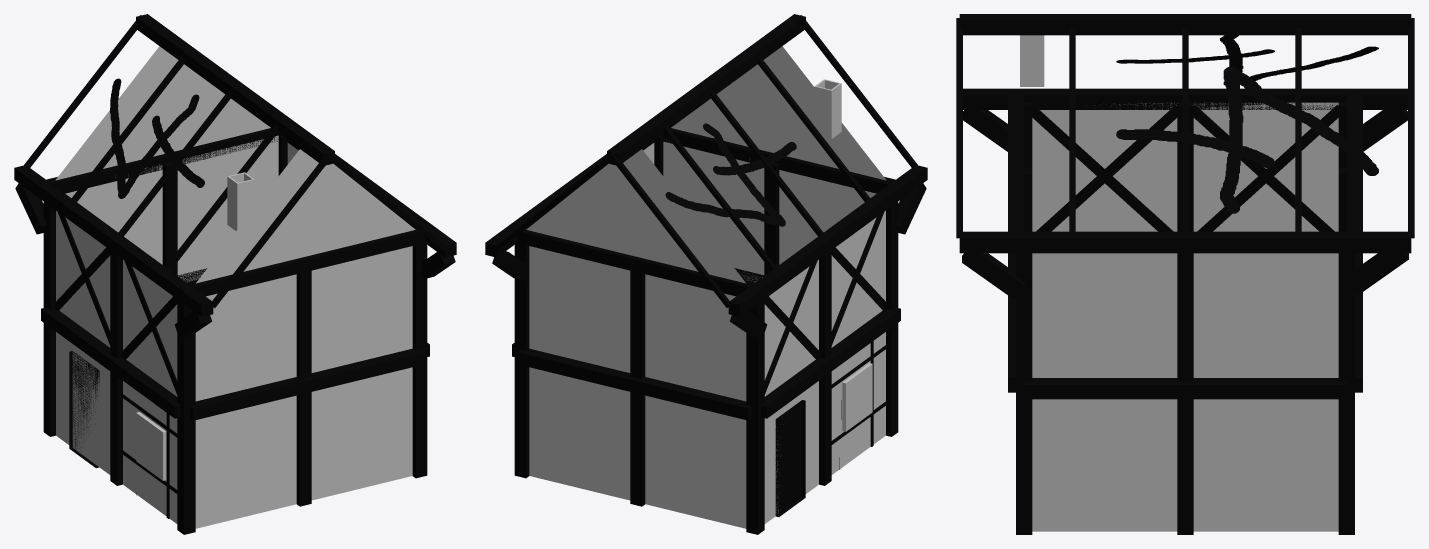
The model's file is house_medieval.fbx.
3 views of the same model, side by side, from view 1: azimuth 30°, elevation 25°; view 2: azimuth 150°, elevation 25°; view 3: azimuth 270°, elevation 25° (orthographic). The views are drawn at different scales.
Parts seen in each view (by area): view 1: Plane.002, Plane.004, Plane.009, Plane.001, Plane.008, Cube.012, Cube.014, Cube.011, Cube.002, Cube.015, Cube.007, Cube.003 (+23 smaller); view 2: Plane.001, Plane.004, Plane.008, Plane.002, Plane.009, Cube.012, Cube.014, Cube.008, Cube.005, Cube.013, Cube.004, Cube.001 (+23 smaller); view 3: Plane.003, Plane.004, Cube.020, Cube.014, Cube.012, Cube.009, Plane.006, Cube.001, Cube.003, Cube, Cube.015, Cube.013 (+21 smaller).
Part boxes in pixels (left/top/right/bottom): Plane.002: left=195, top=246, right=412, bottom=528; Plane.004: left=56, top=210, right=177, bottom=523; Plane.009: left=196, top=149, right=415, bottom=283; Plane.001: left=65, top=135, right=278, bottom=282; Plane.008: left=55, top=46, right=270, bottom=180; Cube.012: left=14, top=165, right=213, bottom=316; Cube.014: left=136, top=14, right=334, bottom=165; Cube.011: left=190, top=348, right=424, bottom=420; Cube.002: left=177, top=299, right=195, bottom=534; Cube.015: left=187, top=227, right=424, bottom=296; Cube.007: left=296, top=270, right=311, bottom=506; Cube.003: left=412, top=243, right=427, bottom=478; Plane.001: left=529, top=246, right=746, bottom=528; Plane.004: left=764, top=210, right=885, bottom=523; Plane.008: left=526, top=149, right=745, bottom=283; Plane.002: left=663, top=140, right=876, bottom=282; Plane.009: left=671, top=46, right=886, bottom=180; Cube.012: left=728, top=165, right=927, bottom=316; Cube.014: left=607, top=14, right=805, bottom=165; Cube.008: left=517, top=348, right=751, bottom=420; Cube.005: left=746, top=299, right=764, bottom=534; Cube.013: left=517, top=227, right=754, bottom=296; Cube.004: left=630, top=270, right=645, bottom=506; Cube.001: left=514, top=243, right=529, bottom=478; Plane.003: left=1032, top=253, right=1338, bottom=531; Plane.004: left=1032, top=102, right=1338, bottom=231; Cube.020: left=959, top=231, right=1411, bottom=253; Cube.014: left=959, top=14, right=1411, bottom=35; Cube.012: left=963, top=88, right=1407, bottom=109; Cube.009: left=1024, top=378, right=1346, bottom=399; Plane.006: left=1116, top=66, right=1378, bottom=213; Cube.001: left=1338, top=253, right=1354, bottom=534; Cube.003: left=1016, top=253, right=1032, bottom=534; Cube: left=1177, top=253, right=1193, bottom=534; Cube.015: left=1008, top=95, right=1023, bottom=231; Cube.013: left=1347, top=95, right=1362, bottom=231.
Bounding box in the file's own units: 440 × 610 × 568.
